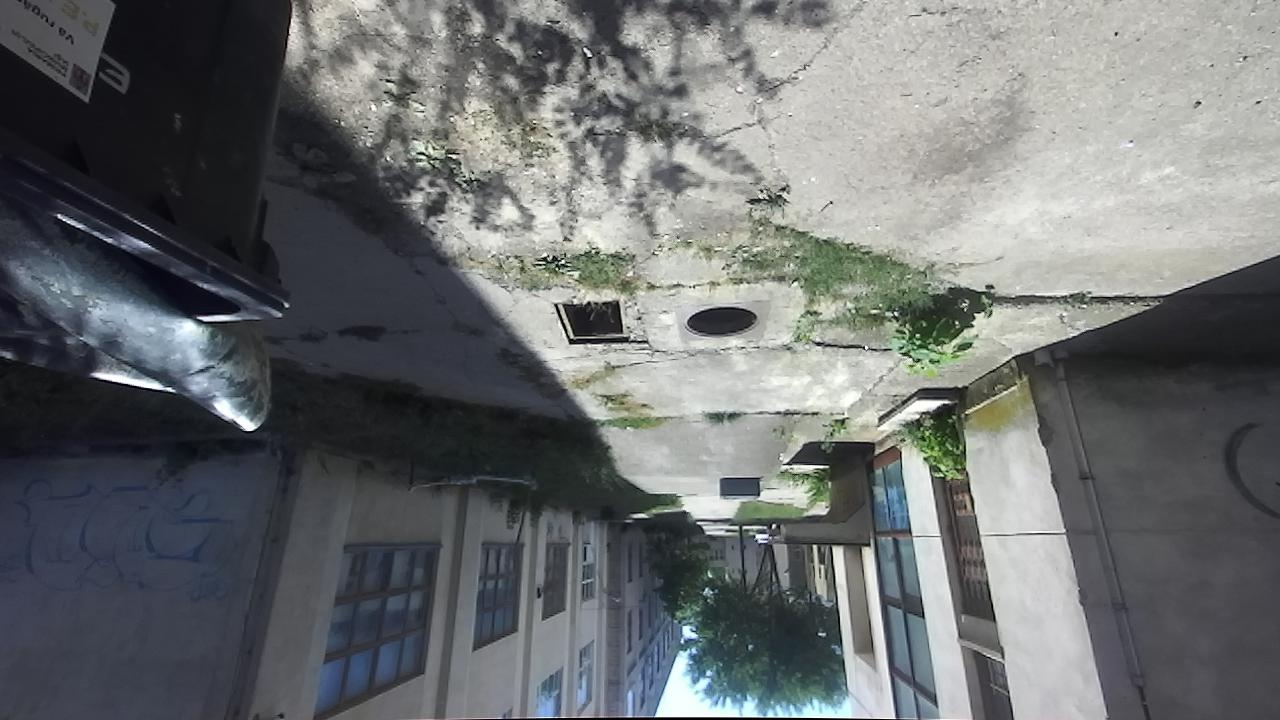drain: (548, 297, 649, 347), (674, 304, 763, 339)
